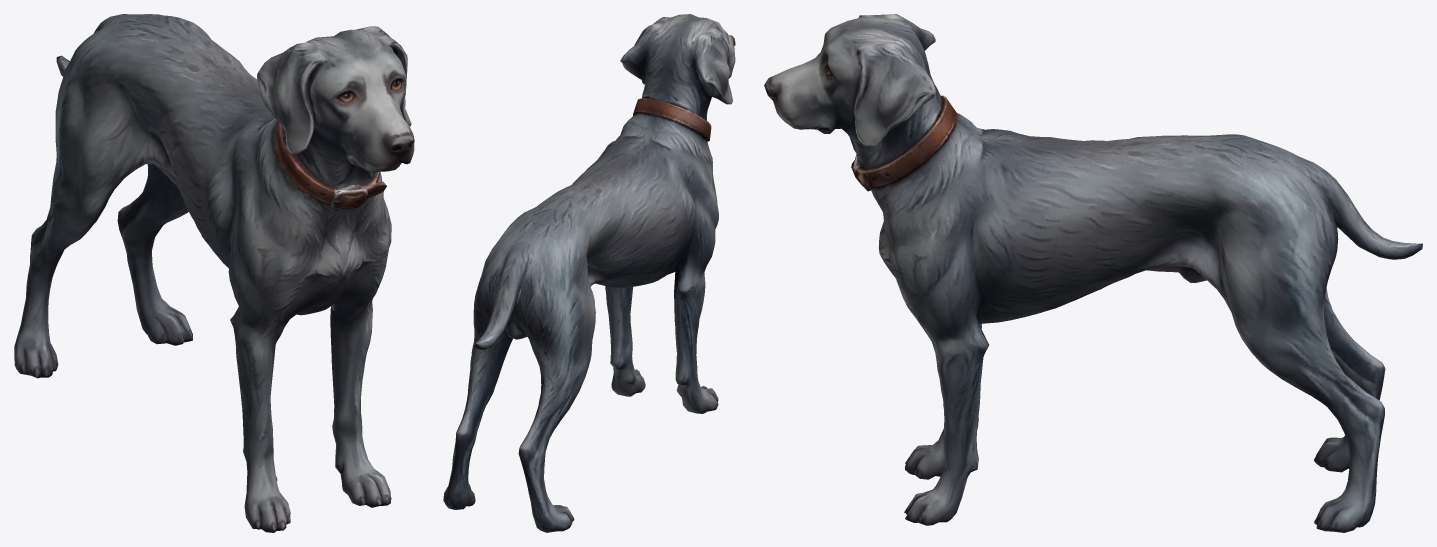
The model's file is cao-4.glb.
The picture shows the model from 3 angles, left to right: view 1: azimuth 30°, elevation 25°; view 2: azimuth 150°, elevation 25°; view 3: azimuth 270°, elevation 25°; orthographic projection. The views are drawn at different scales.
Parts seen in each view (by area): view 1: cao; view 2: cao; view 3: cao.
Boxes of the visible parts, x1,y1,x2,y2 form: cao: [14, 14, 414, 532]; cao: [443, 14, 735, 532]; cao: [764, 14, 1422, 532].
Bounding box in the file's own units: 0.5385 × 1.49 × 1.9.
Materials: 1 (1 with a texture image).
